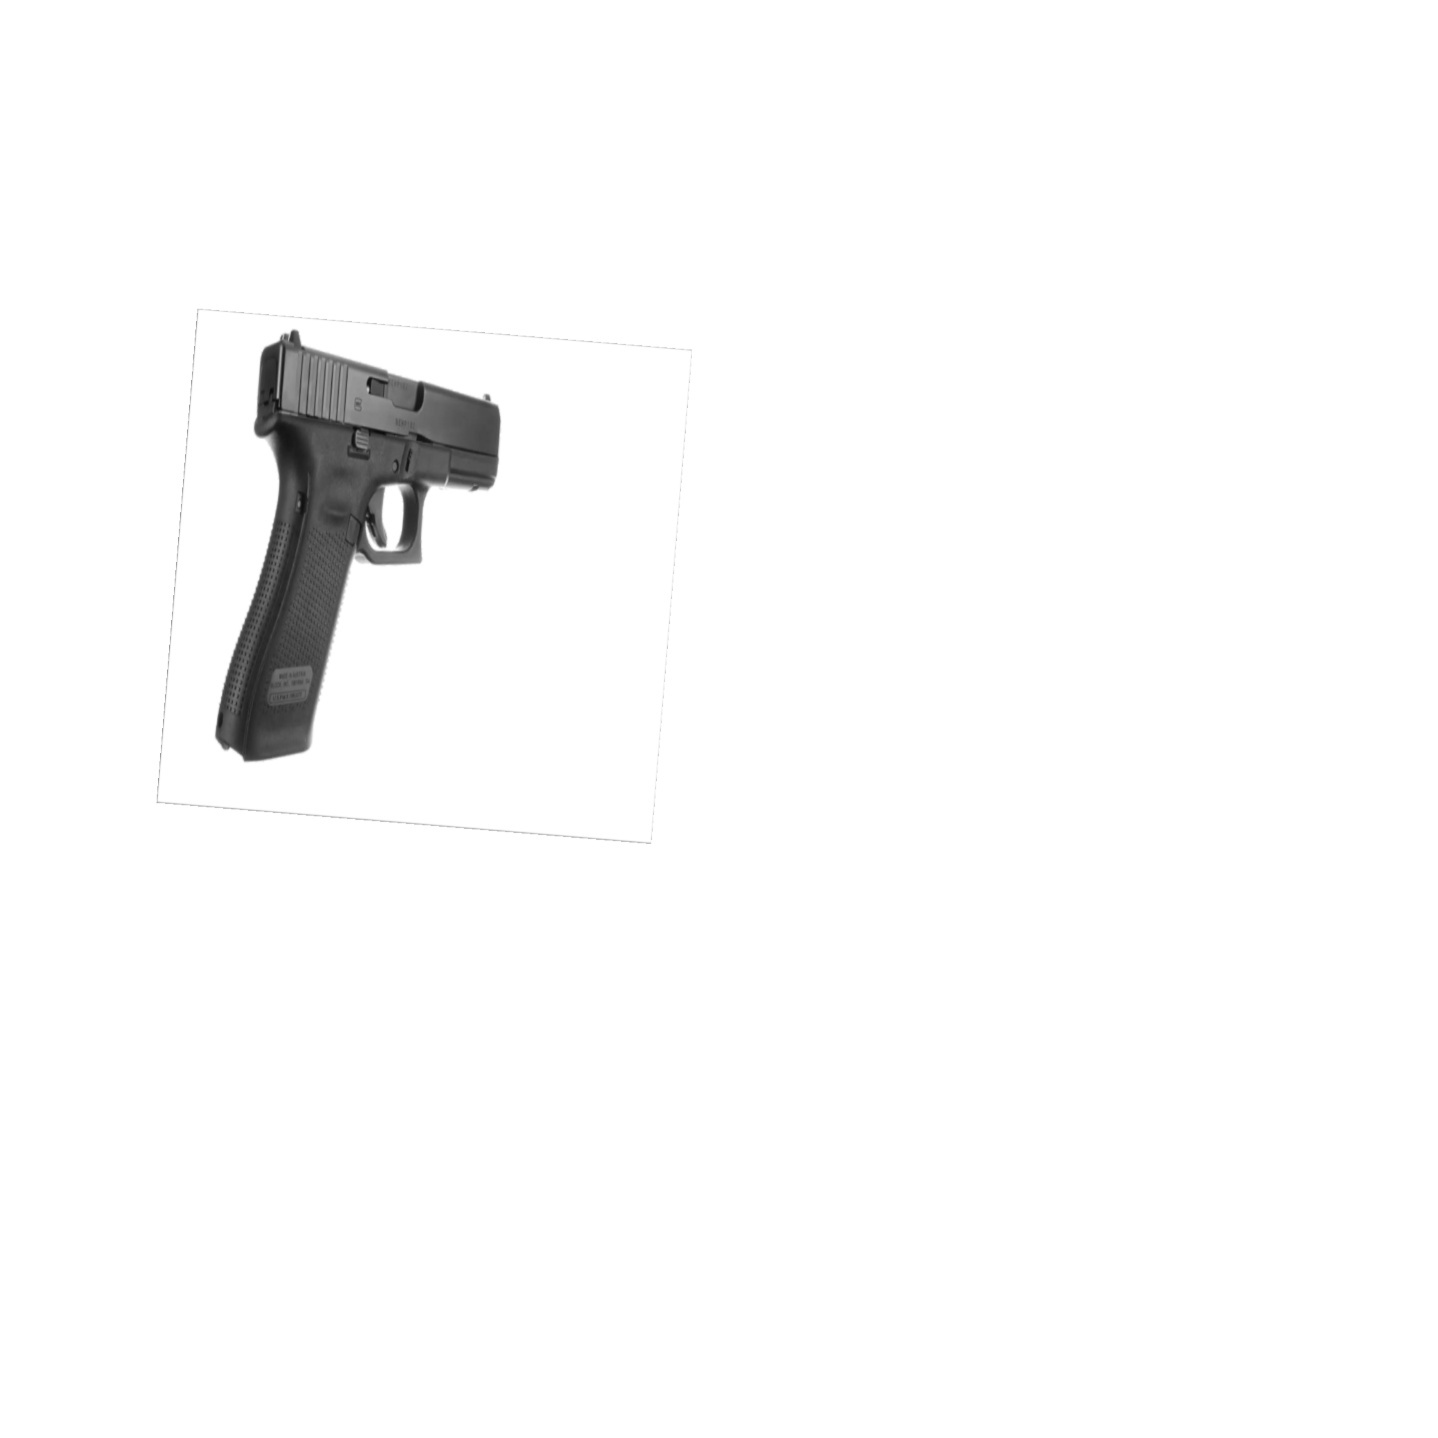gun: (215, 316, 506, 777)
